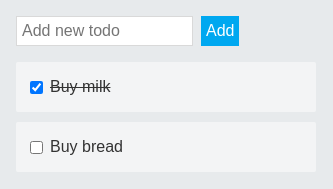
Scenario: TodoApp › delete item
Hover over the list item with test id "todo-0" at (166, 87), box top-left (16, 62), bottom-right (316, 112)
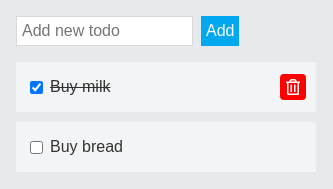
Click the button with test id "todo-0-delete" at (293, 87), box top-left (280, 74), bottom-right (306, 100)
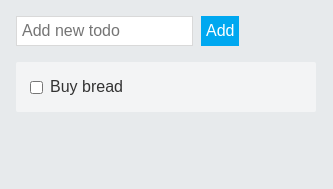
Check: the text "Buy milk" is gone
